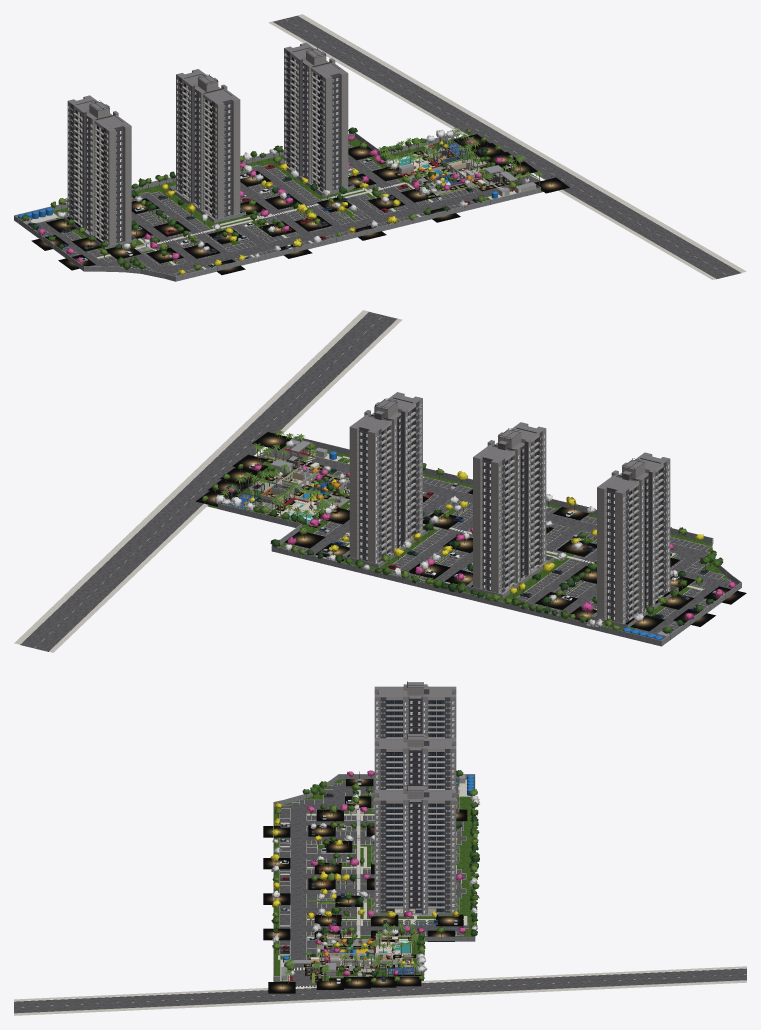
Rendered from gaia.glb.
3 renders of one model, top to bottom at view 1: azimuth 30°, elevation 25°; view 2: azimuth 150°, elevation 25°; view 3: azimuth 270°, elevation 25°, orthographic. The views are drawn at different scales.
Visible parts, largest first — view 1: terreno, entorno-rua, lazer, vegetacao, torre-3, torre-2, torre-1, unidades, carros, torre-3-det, torre-1-det, torre-2-det (+1 smaller); view 2: terreno, entorno-rua, torre-2, torre-3, torre-1, vegetacao, lazer, unidades, carros, torre-2-det, torre-3-det, torre-1-det (+1 smaller); view 3: terreno, entorno-rua, lazer, torre-1, vegetacao, unidades, torre-3, torre-2, carros, moveis, torre-1-det.
Part boxes in pixels (bbox=[...]): terreno: bbox=[14, 132, 543, 281]; entorno-rua: bbox=[268, 14, 746, 279]; lazer: bbox=[31, 134, 569, 274]; vegetacao: bbox=[21, 127, 543, 274]; torre-3: bbox=[67, 95, 131, 245]; torre-2: bbox=[176, 69, 240, 218]; torre-1: bbox=[284, 42, 348, 191]; unidades: bbox=[75, 57, 319, 240]; carros: bbox=[27, 148, 512, 267]; torre-3-det: bbox=[68, 100, 122, 243]; torre-1-det: bbox=[284, 48, 338, 189]; torre-2-det: bbox=[176, 74, 230, 218]; terreno: bbox=[207, 436, 741, 646]; entorno-rua: bbox=[14, 310, 402, 652]; torre-2: bbox=[473, 422, 546, 593]; torre-3: bbox=[597, 452, 670, 623]; torre-1: bbox=[349, 392, 422, 563]; vegetacao: bbox=[202, 429, 736, 633]; lazer: bbox=[195, 430, 746, 631]; unidades: bbox=[381, 409, 661, 617]; carros: bbox=[226, 464, 723, 634]; torre-2-det: bbox=[483, 428, 545, 593]; torre-3-det: bbox=[607, 458, 669, 623]; torre-1-det: bbox=[360, 398, 421, 562]; terreno: bbox=[273, 774, 475, 987]; entorno-rua: bbox=[14, 964, 746, 1015]; lazer: bbox=[263, 771, 467, 993]; torre-1: bbox=[374, 786, 456, 914]; vegetacao: bbox=[270, 770, 479, 984]; unidades: bbox=[386, 700, 444, 912]; torre-3: bbox=[374, 682, 456, 738]; torre-2: bbox=[374, 734, 456, 789]; carros: bbox=[279, 779, 457, 983]; moveis: bbox=[309, 809, 415, 974]; torre-1-det: bbox=[376, 784, 454, 913].
Size of what is drawn, in the model's own units: 272 by 65.07 by 349.
146 materials, 75 textured.
